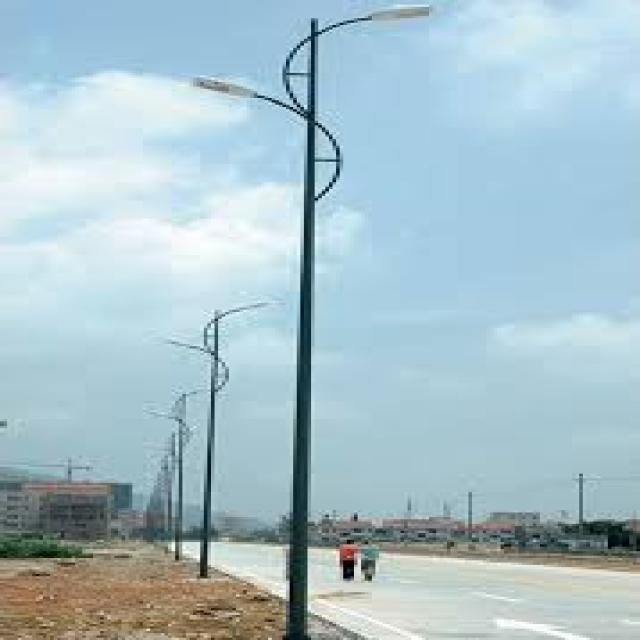Street Light: (190, 2, 436, 640), (168, 298, 275, 583)
